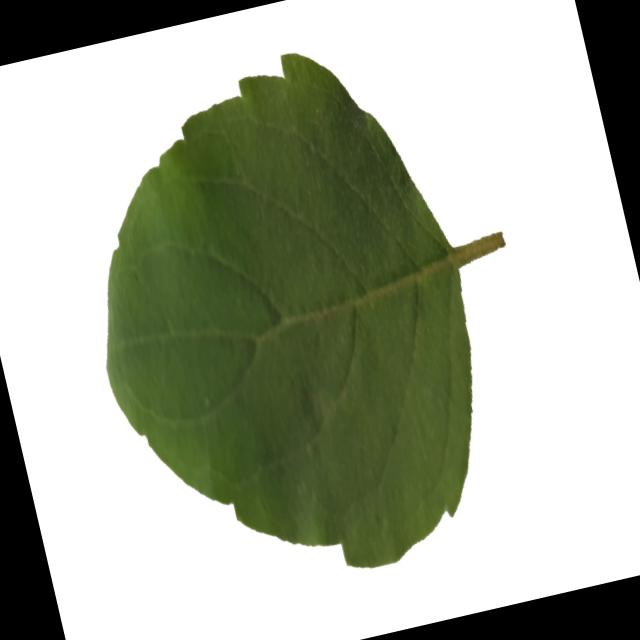tulsi: (45, 13, 568, 618)
